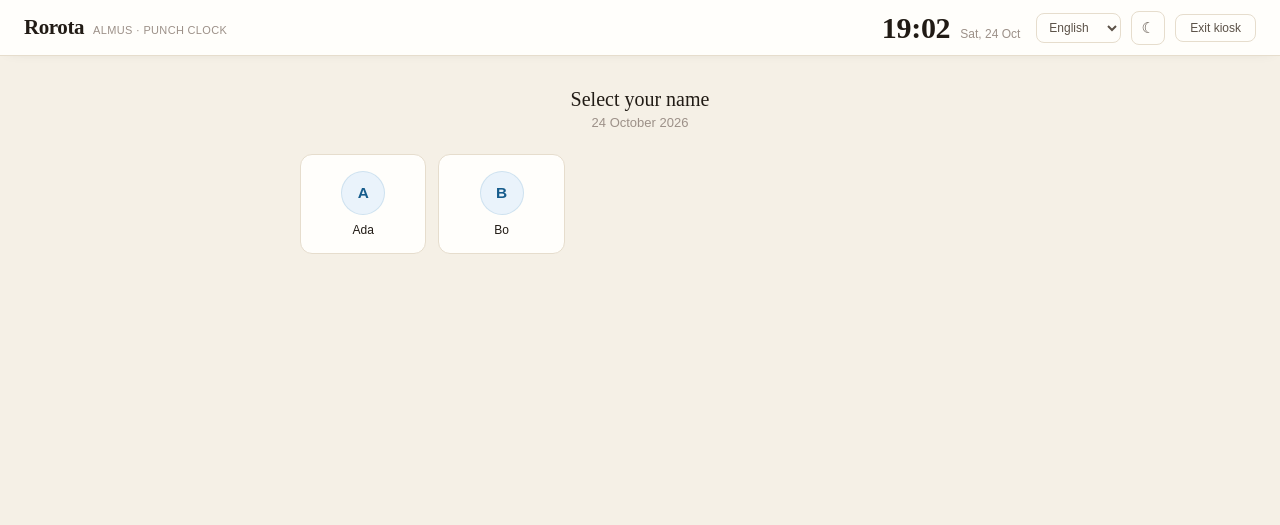
Test case: KioskView › when the server cannot be reached › clears the message as soon as typing resumes
Click the text "Ada". click: (363, 230)
box: [352,223,374,237]
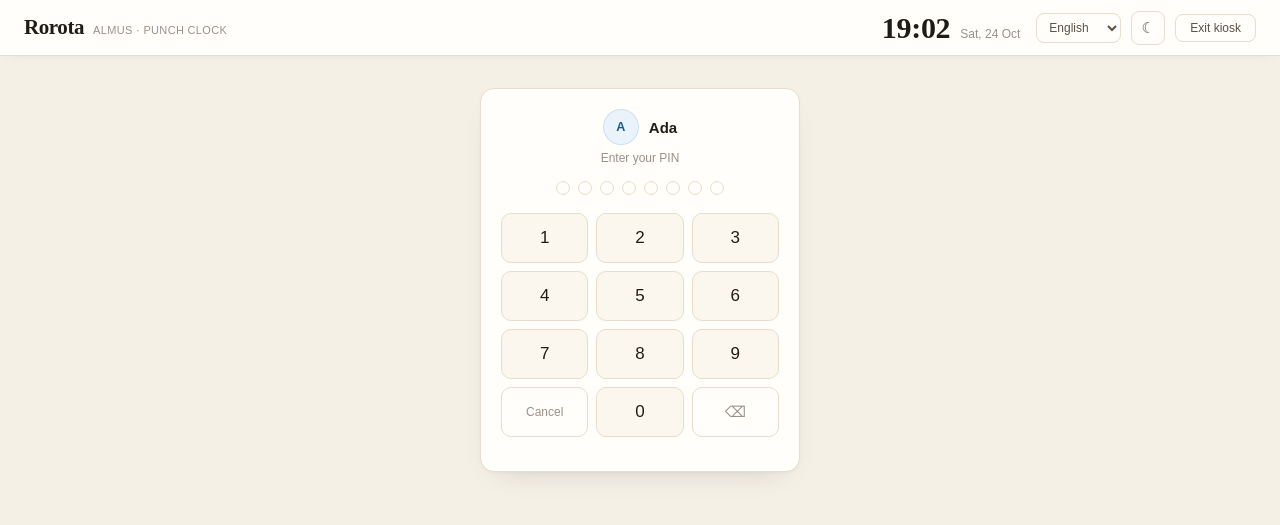
Click the button "1". click: (545, 238)
box: [501,213,588,263]
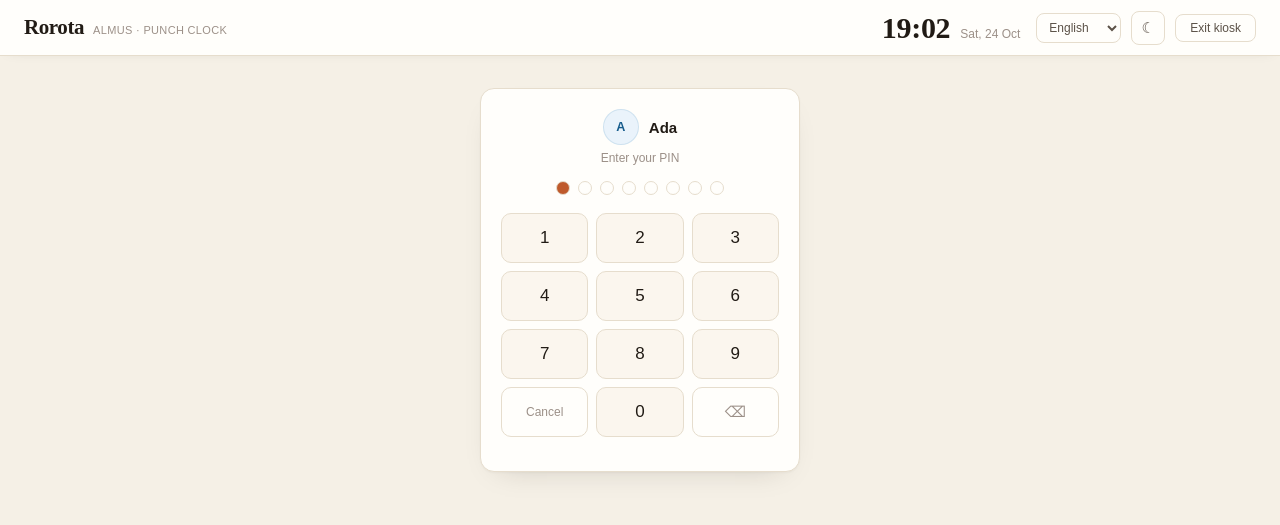
Click the button "2". click: (640, 238)
box: [596,213,684,263]
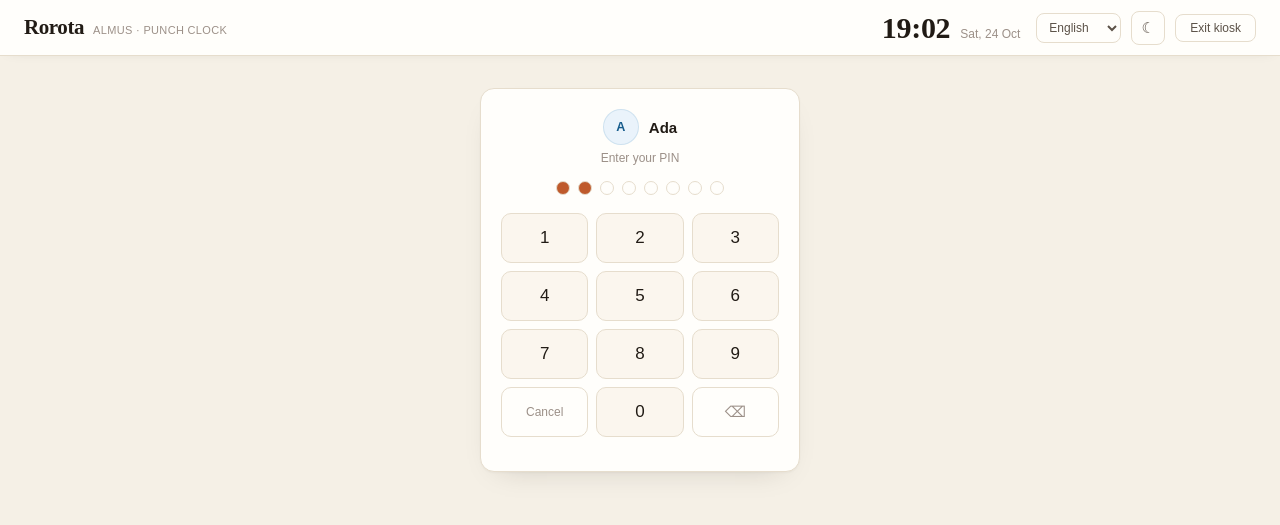
Click the button "3". click: (735, 238)
box: [692,213,779,263]
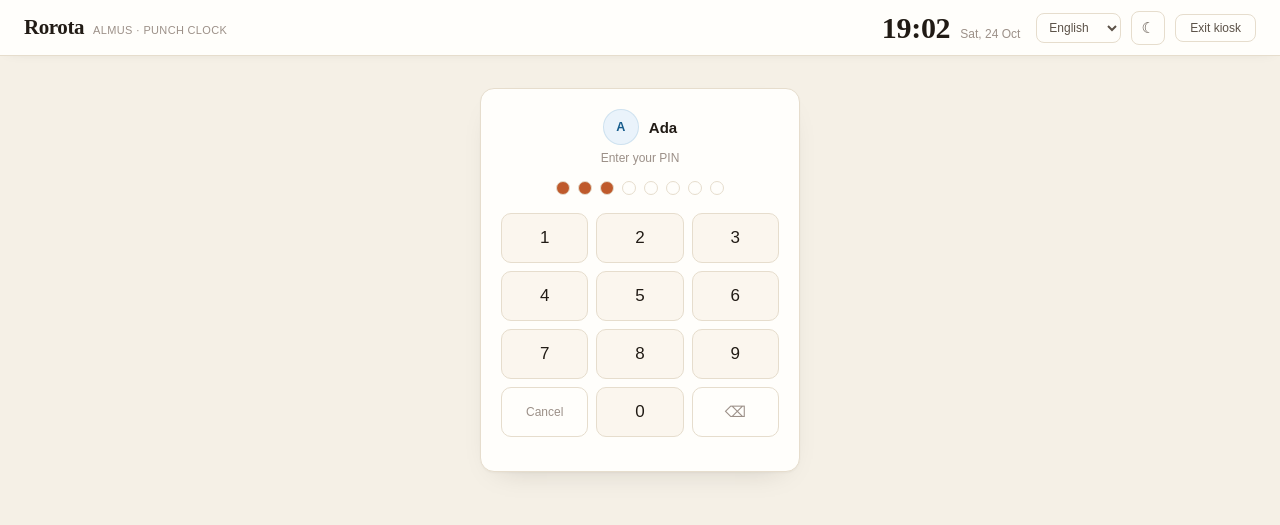
Click the button "4". click: (545, 296)
box: [501,271,588,321]
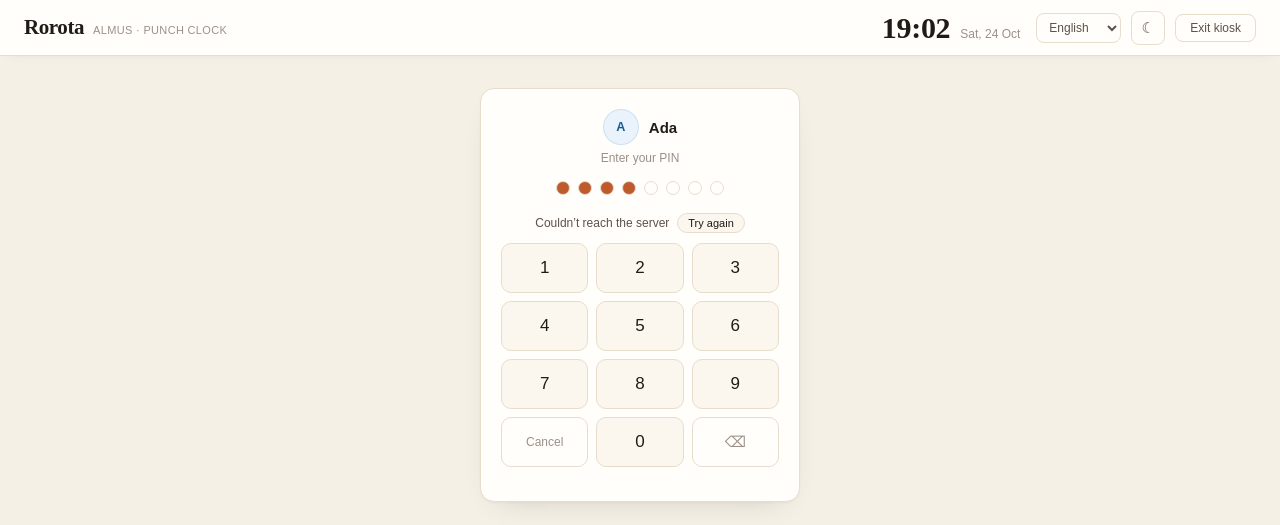
Now the text "Couldn’t reach the server" is shown, box [535,216,669,230]
Click the button "5". click: (640, 326)
box: [596,301,684,351]
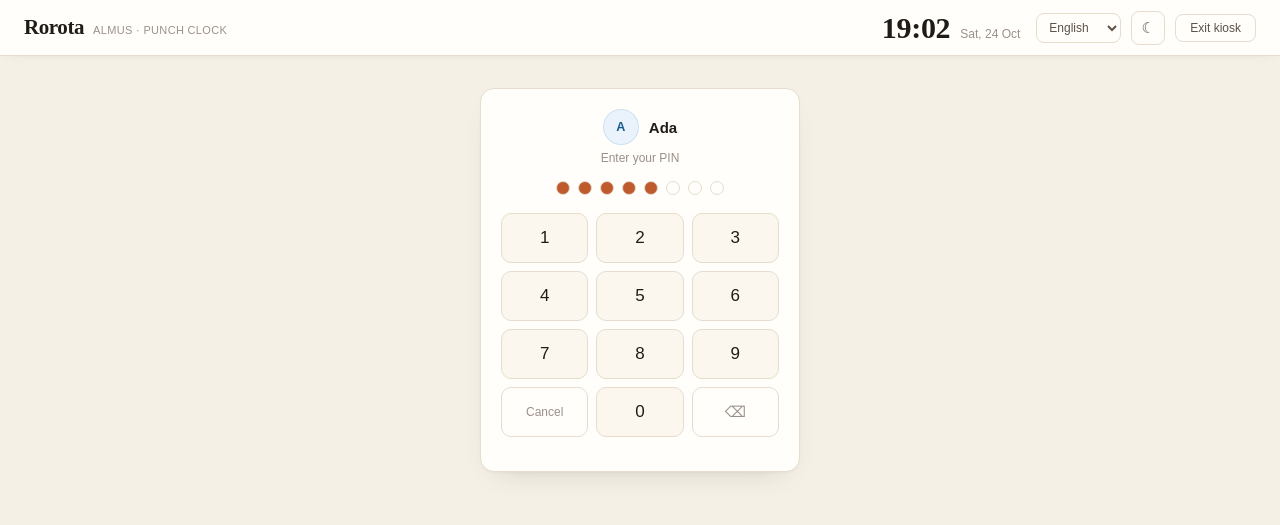
Now the text "Couldn’t reach the server" is gone
